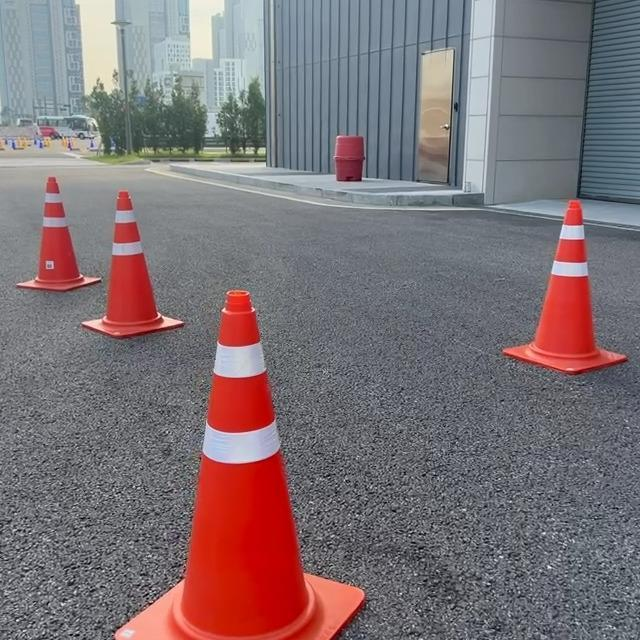fallen_object: (115, 256, 377, 640), (473, 182, 621, 433), (86, 169, 186, 378), (0, 166, 92, 320)
